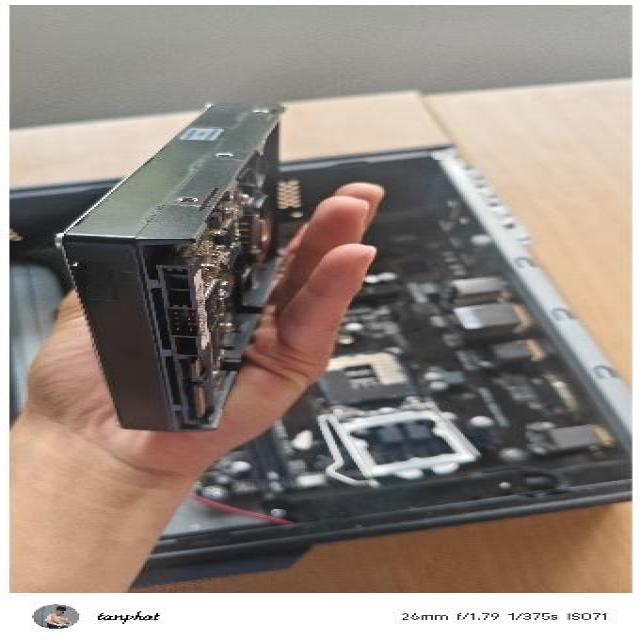DISK: (51, 96, 310, 430)
